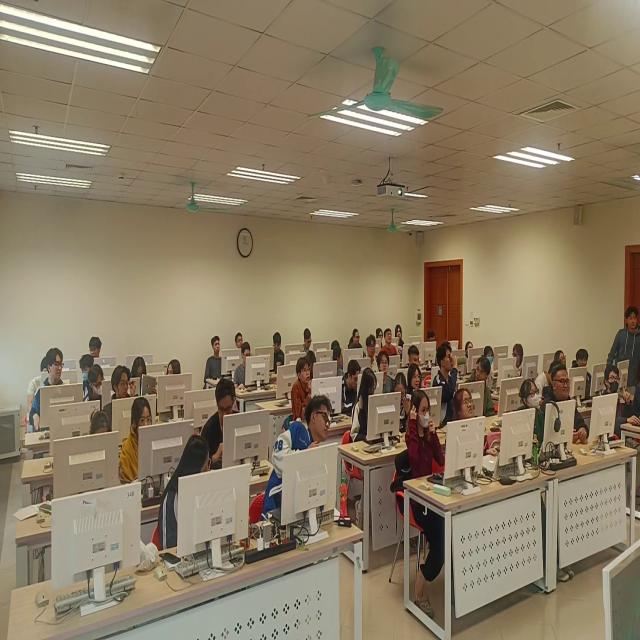raise_hand: (434, 343, 467, 407)
raise_head: (403, 388, 446, 504), (545, 365, 582, 442), (101, 364, 137, 425), (598, 363, 625, 444), (516, 378, 545, 447), (293, 354, 317, 423), (451, 385, 477, 447), (375, 350, 398, 403), (361, 332, 383, 380), (206, 333, 227, 378), (571, 346, 594, 382), (382, 328, 399, 362), (484, 345, 498, 374), (553, 348, 569, 370), (395, 324, 406, 347), (466, 341, 476, 366), (235, 331, 245, 351)
stand: (605, 305, 640, 404)
using_computer: (265, 394, 331, 527), (200, 374, 245, 465), (119, 397, 158, 490), (352, 364, 384, 449), (27, 352, 52, 416), (337, 358, 363, 415), (235, 341, 258, 394), (89, 409, 116, 453), (392, 365, 410, 427), (130, 356, 155, 399), (269, 331, 289, 376), (403, 344, 428, 373), (409, 358, 425, 403), (348, 327, 365, 356), (302, 328, 319, 357), (305, 348, 320, 379), (426, 329, 440, 353), (376, 325, 385, 346), (330, 339, 342, 352)
